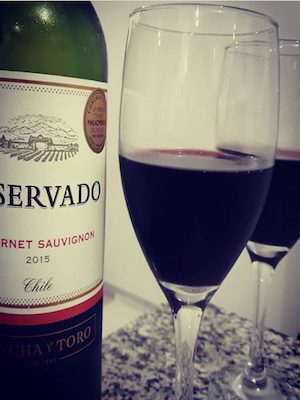reservado cabernet sauvignon: (1, 30, 111, 371)
